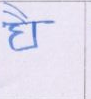e_matra: (3, 3, 30, 21)
